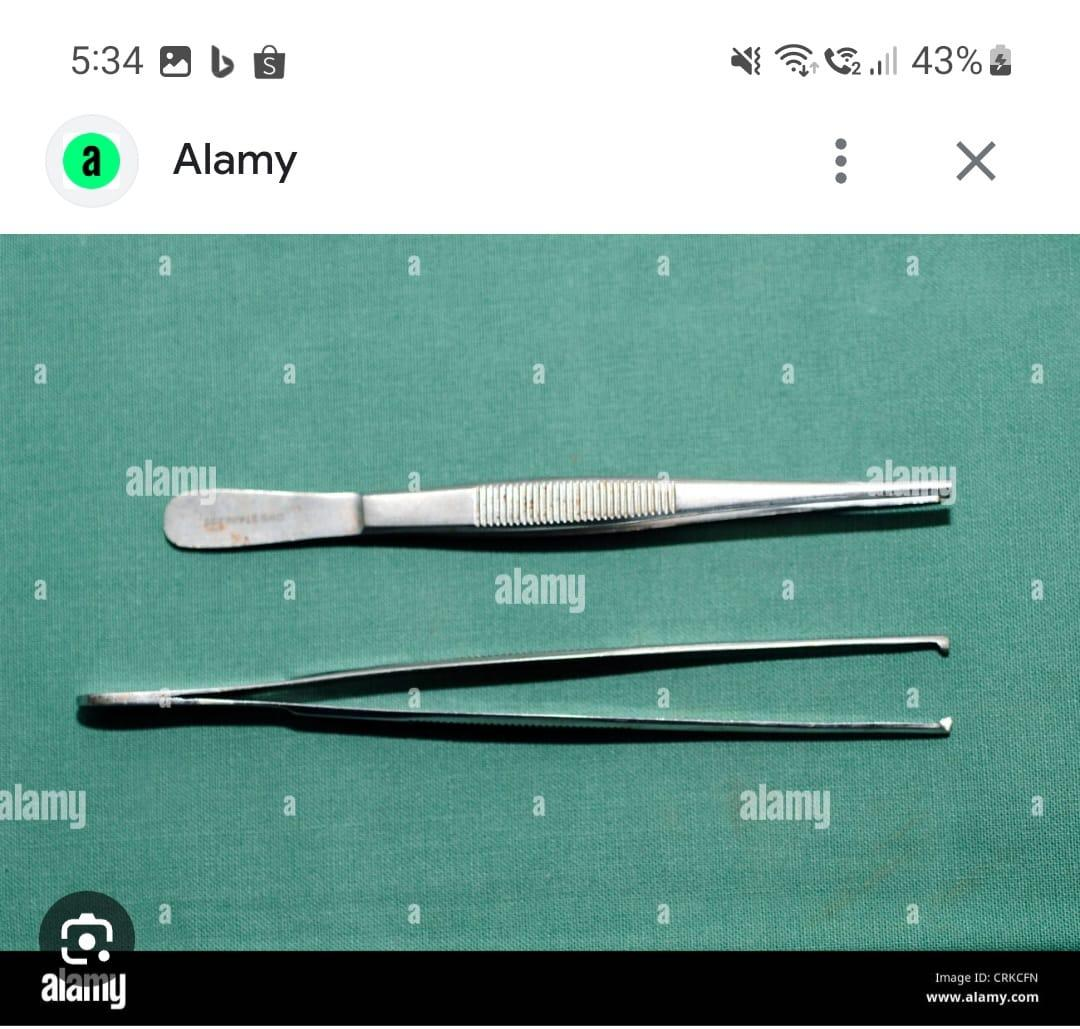Dissecting Forceps Tooth: (63, 613, 982, 758)
